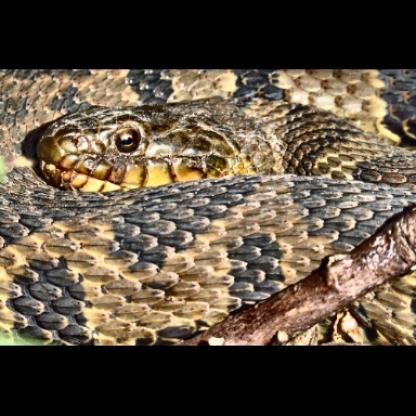Snake: (9, 85, 414, 313)
